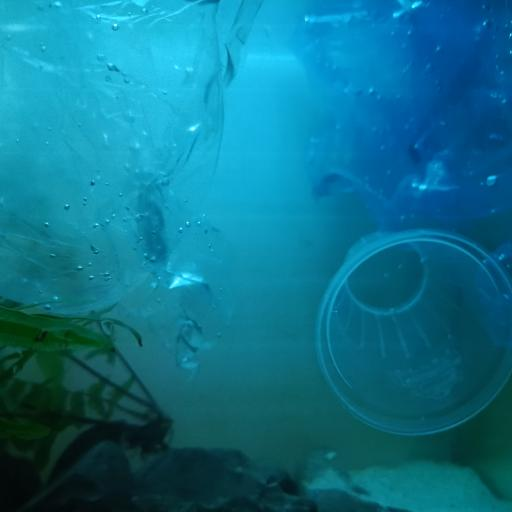plastic_bag: (0, 0, 263, 362), (295, 0, 512, 229)
plastic_cup: (320, 229, 512, 437)
